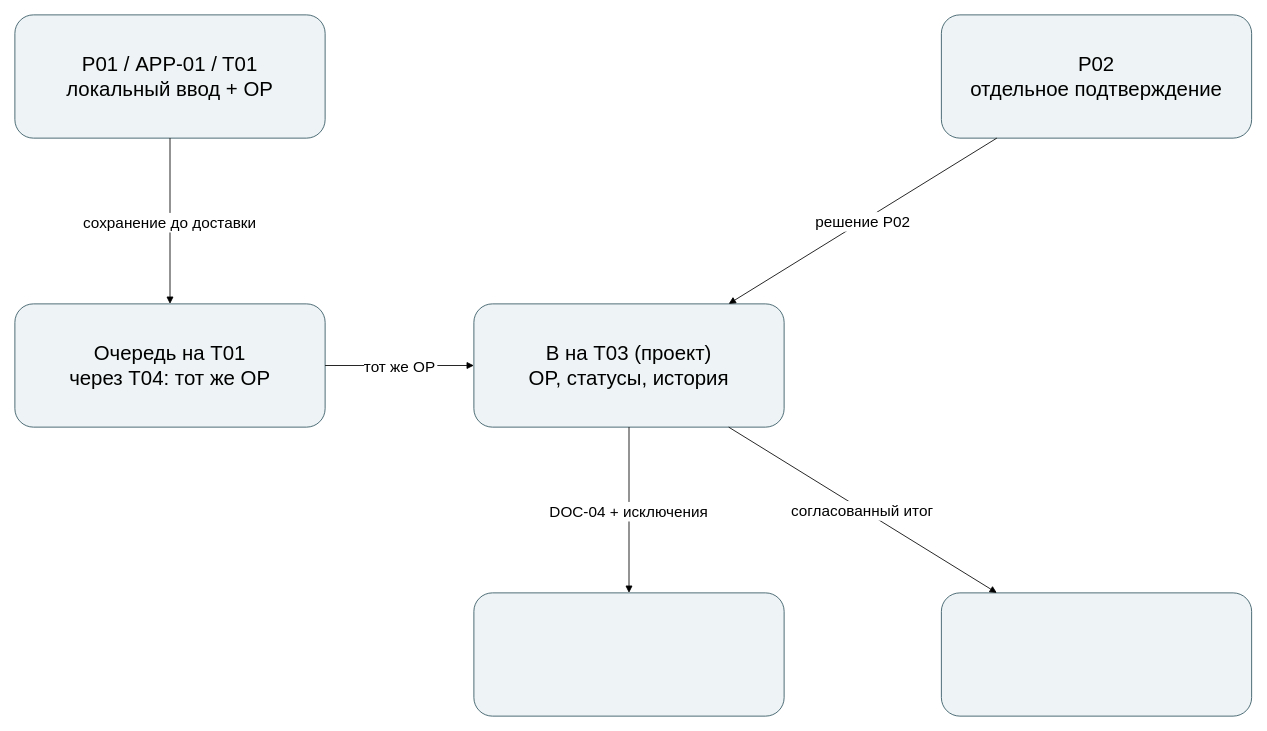
This 1267x731 diagram has some shape labels left out. The shapes that lost their labels are listed below. From the top down, each one's centre as x and y in pixels, then its label:
At point 628,654: "Р03: исключения Р04: отчёт и полнота".
At point 1096,654: "APP-04 сохранена формат уточнить".
